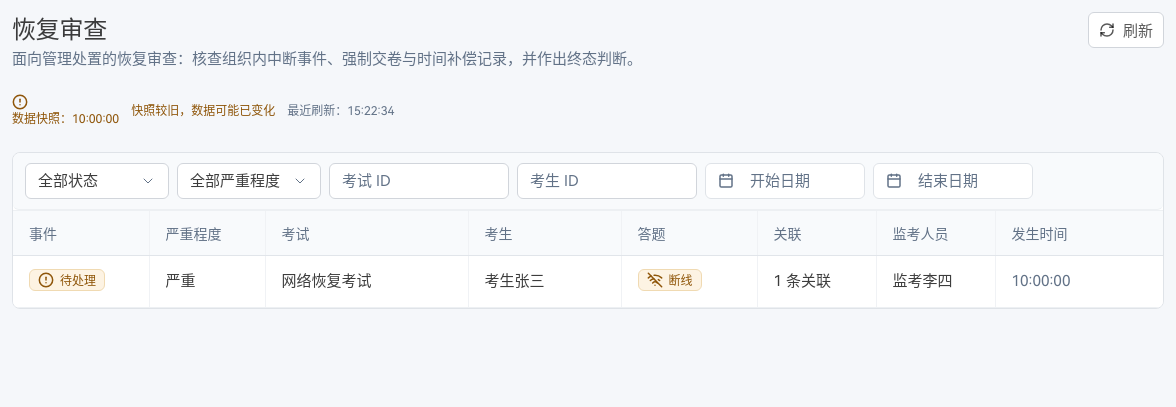
Test: RecoveryQueuePage › changing a filter updates the URL and refetches page 1
Click the dropdown labelled "全部状态". click: (97,181)
box: [25, 163, 169, 199]
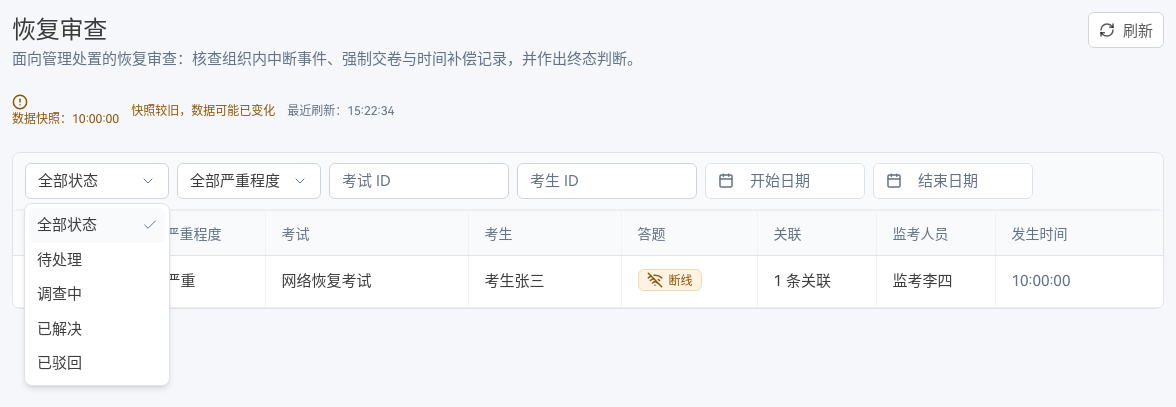
Click the option "调查中". click: (60,294)
box: [37, 285, 82, 303]
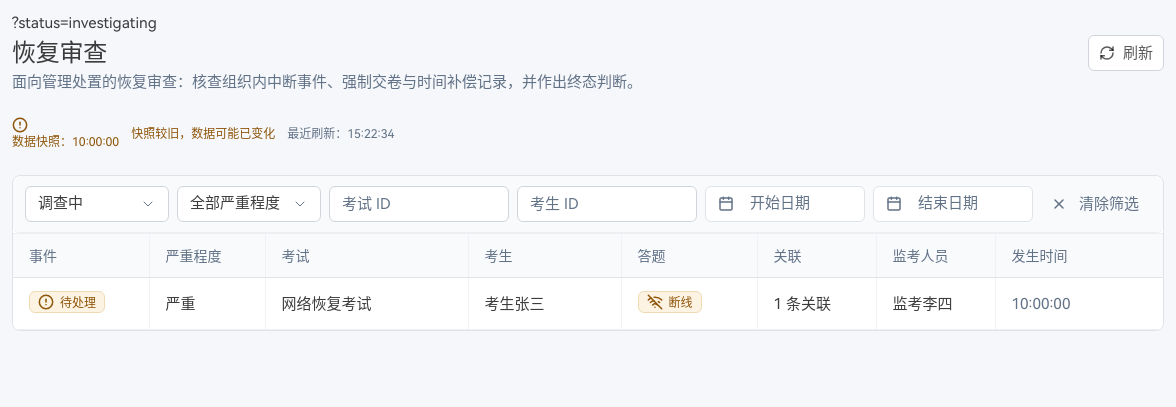
Check: the text with test id "location-search" shows "status=investigating", box [12, 14, 157, 32]
